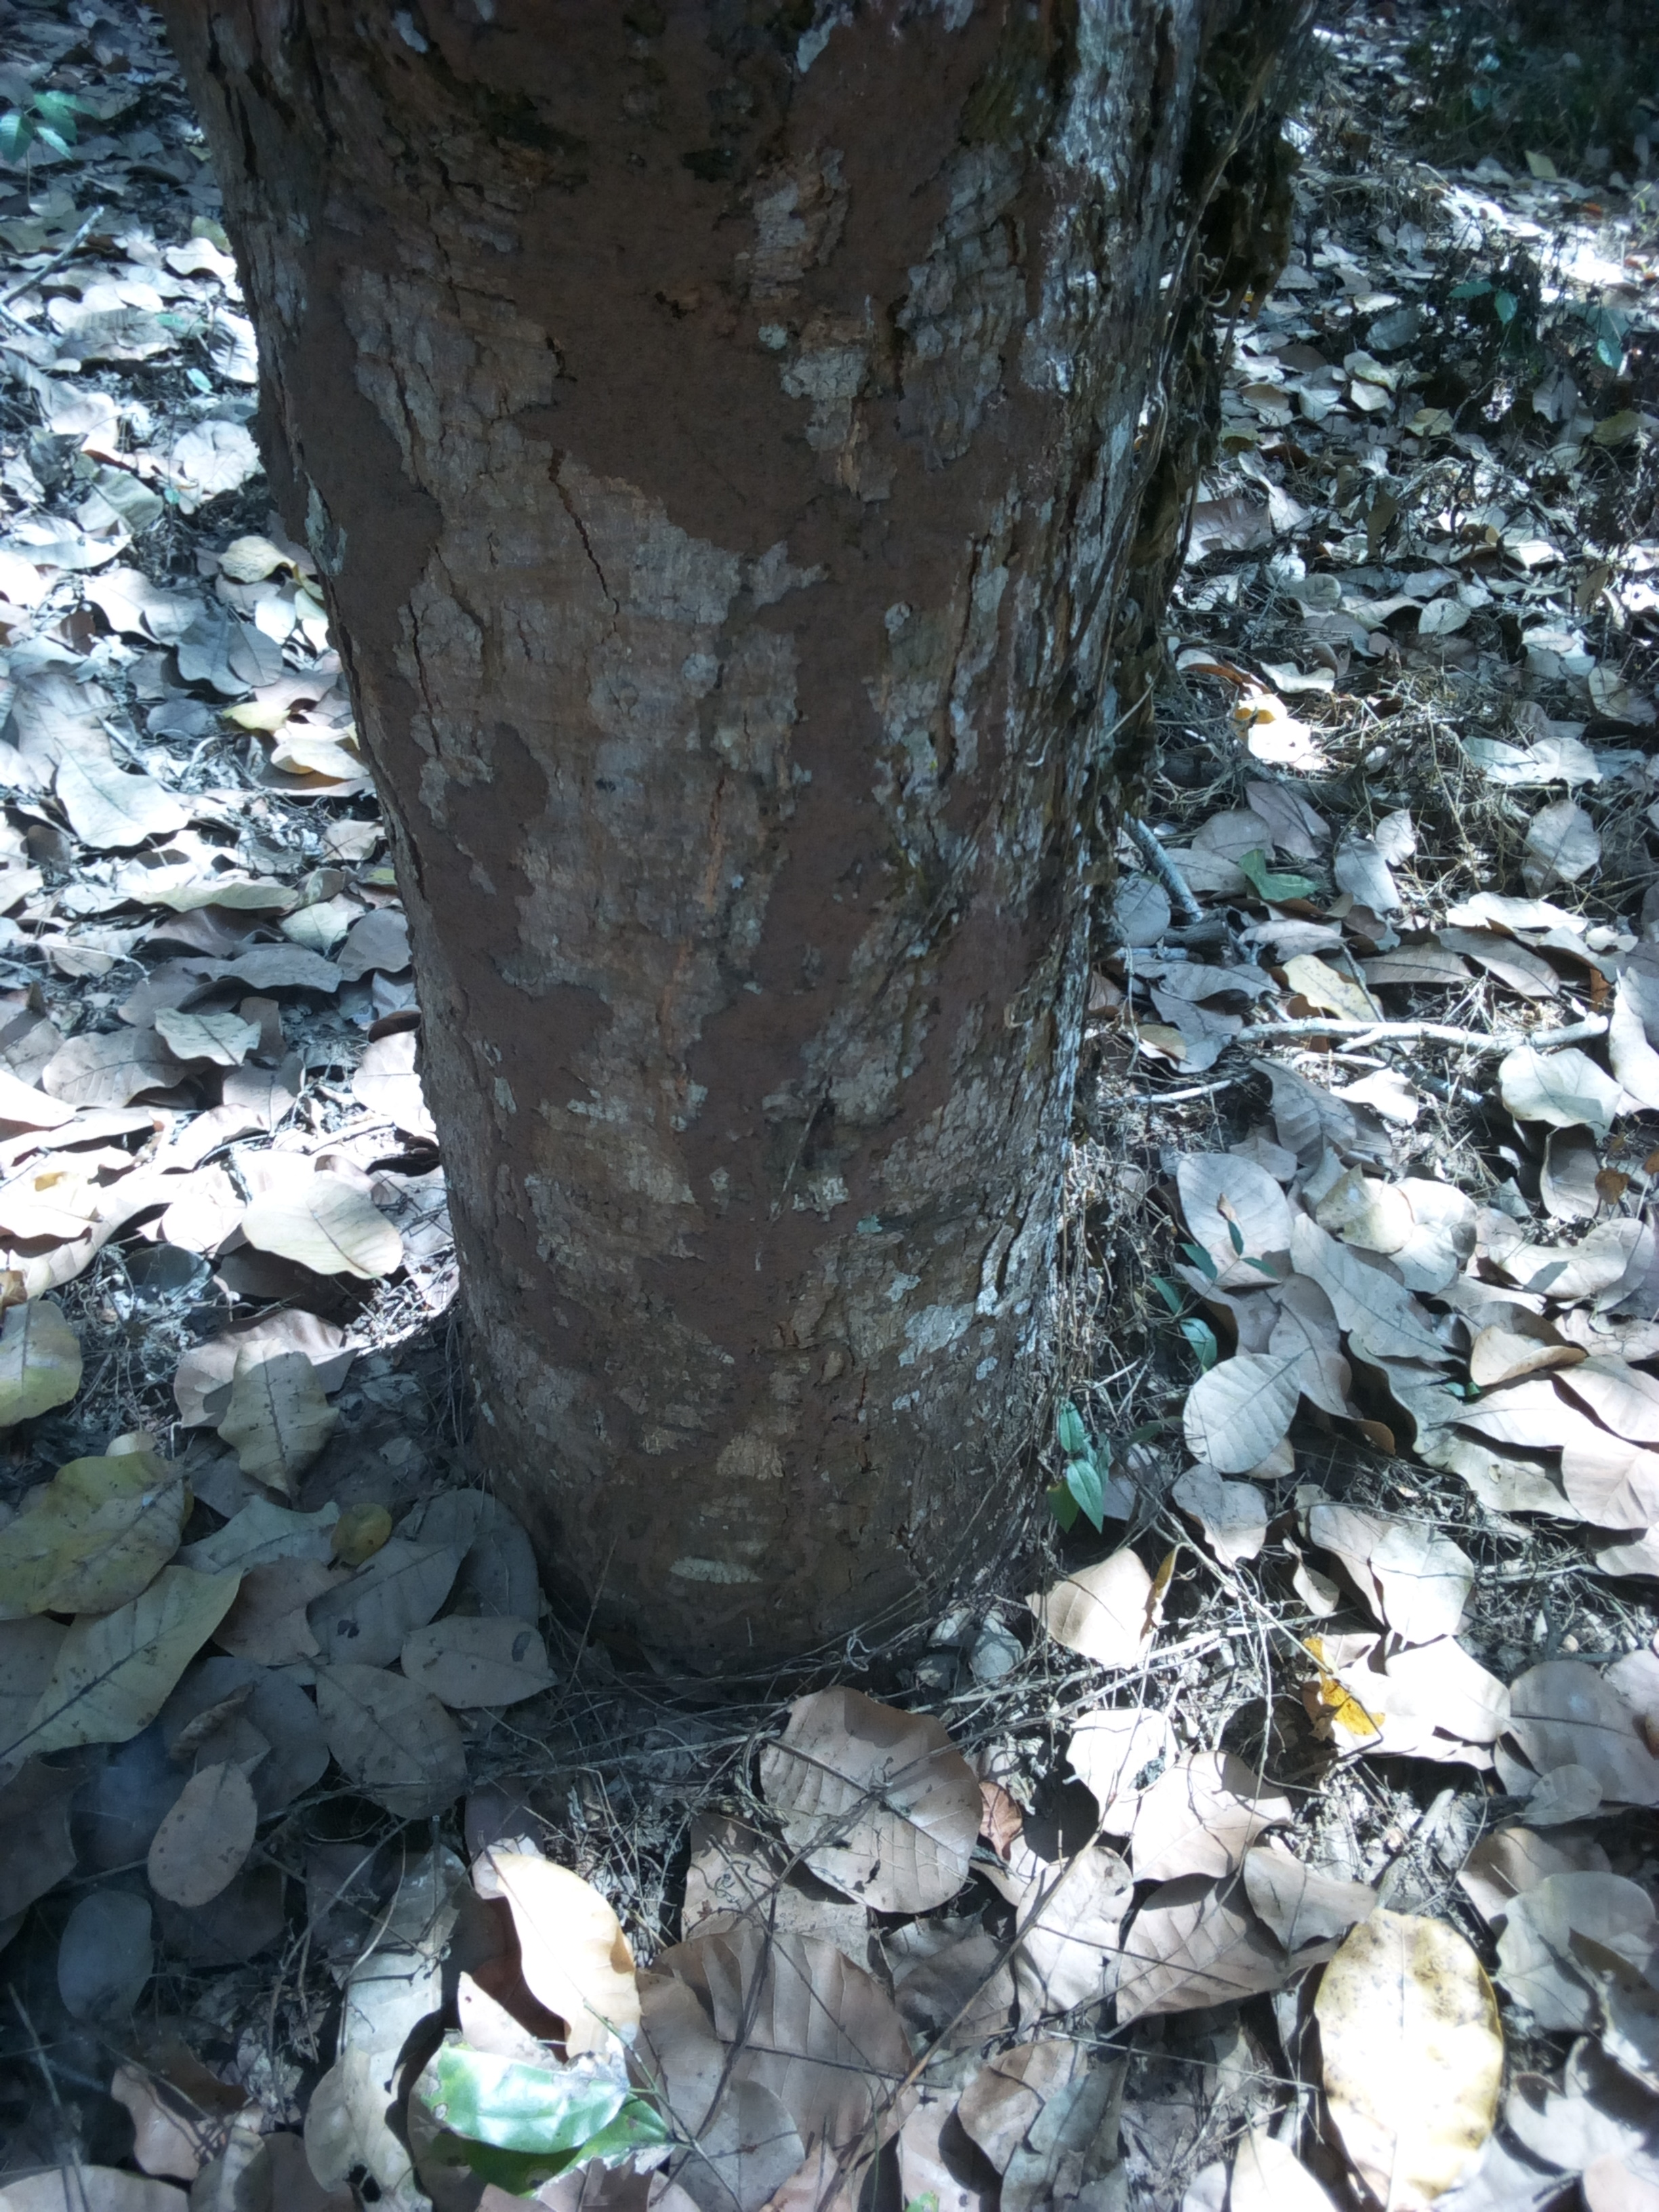Termites: (244, 5, 1060, 557), (701, 571, 1042, 1644), (406, 658, 664, 1421)
